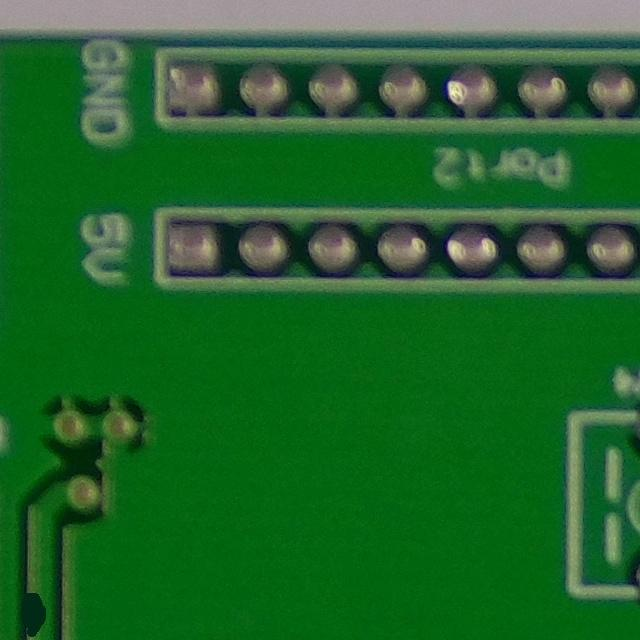mouse_bite: (6, 574, 64, 640)
